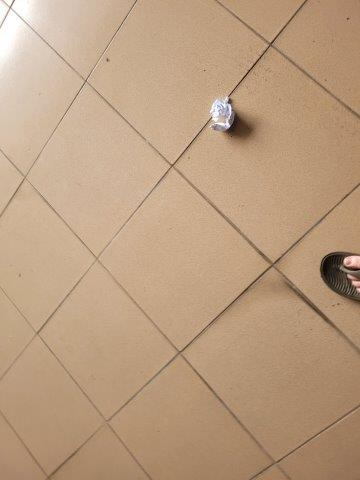kertas: (206, 97, 236, 133)
